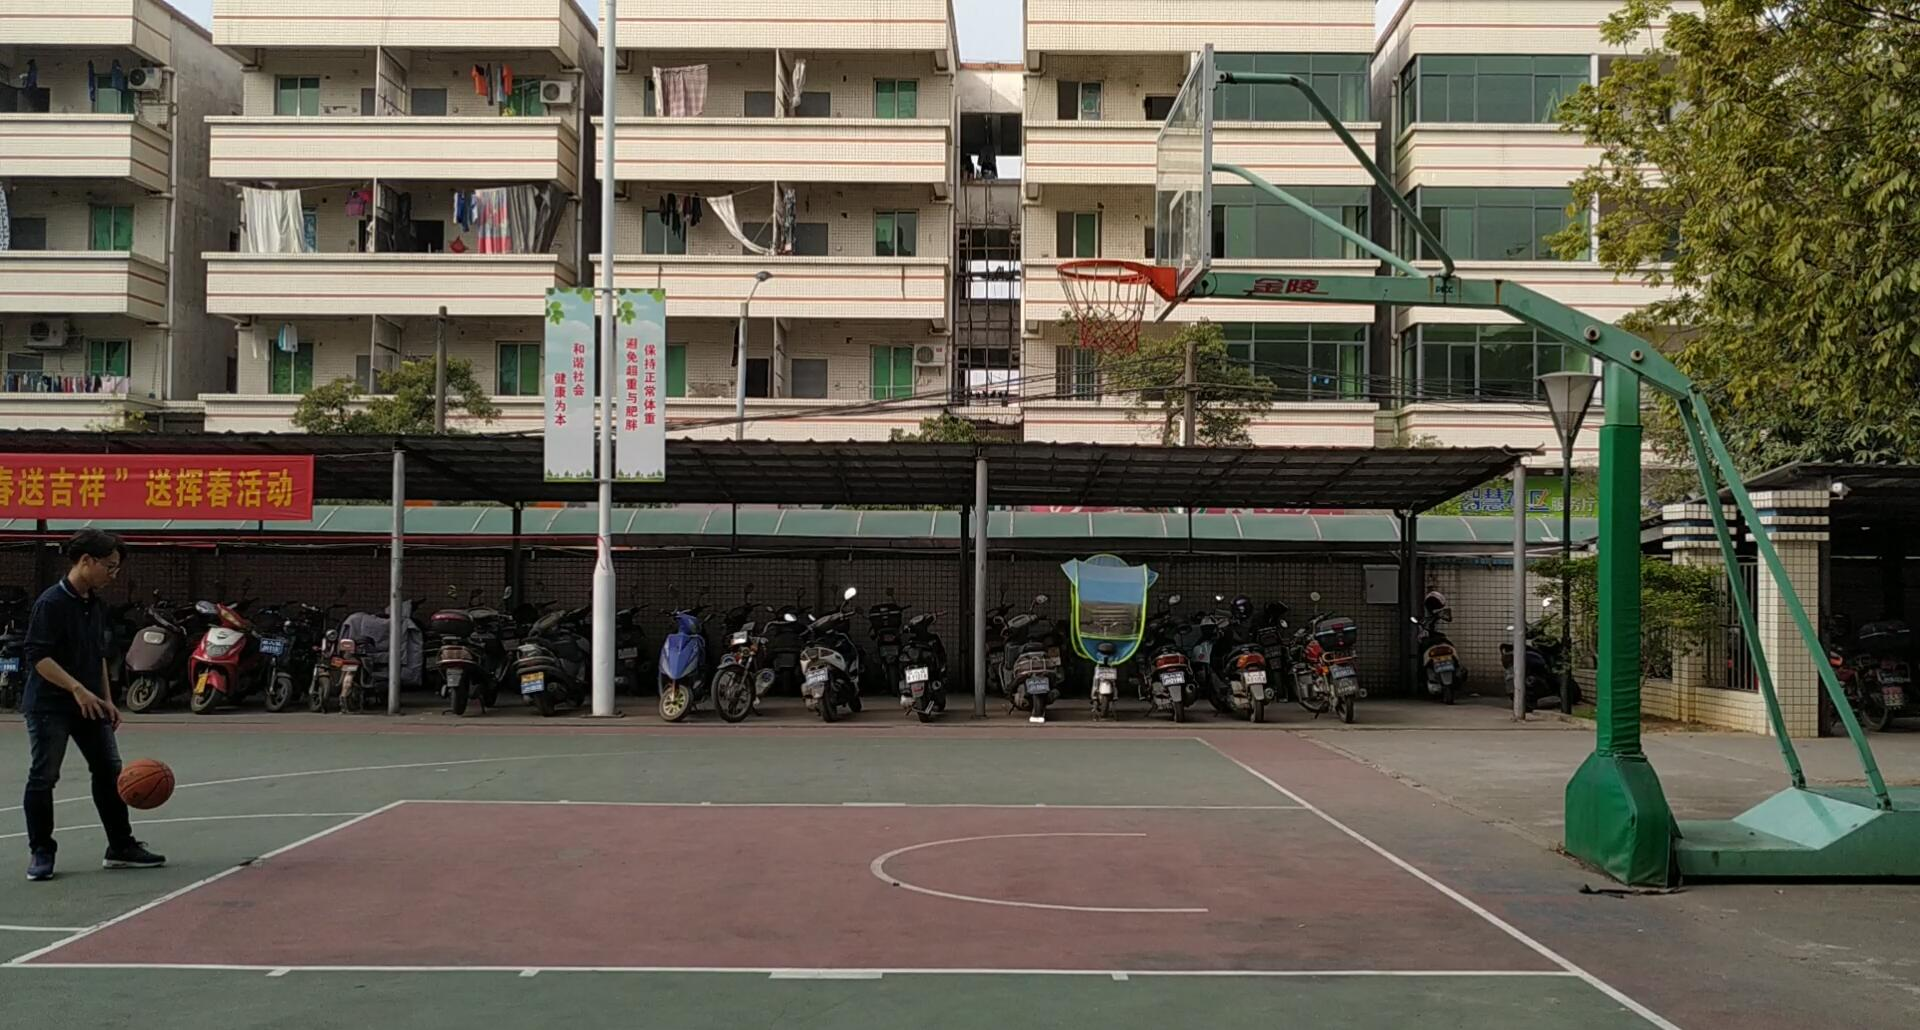basketball: (112, 754, 180, 817)
